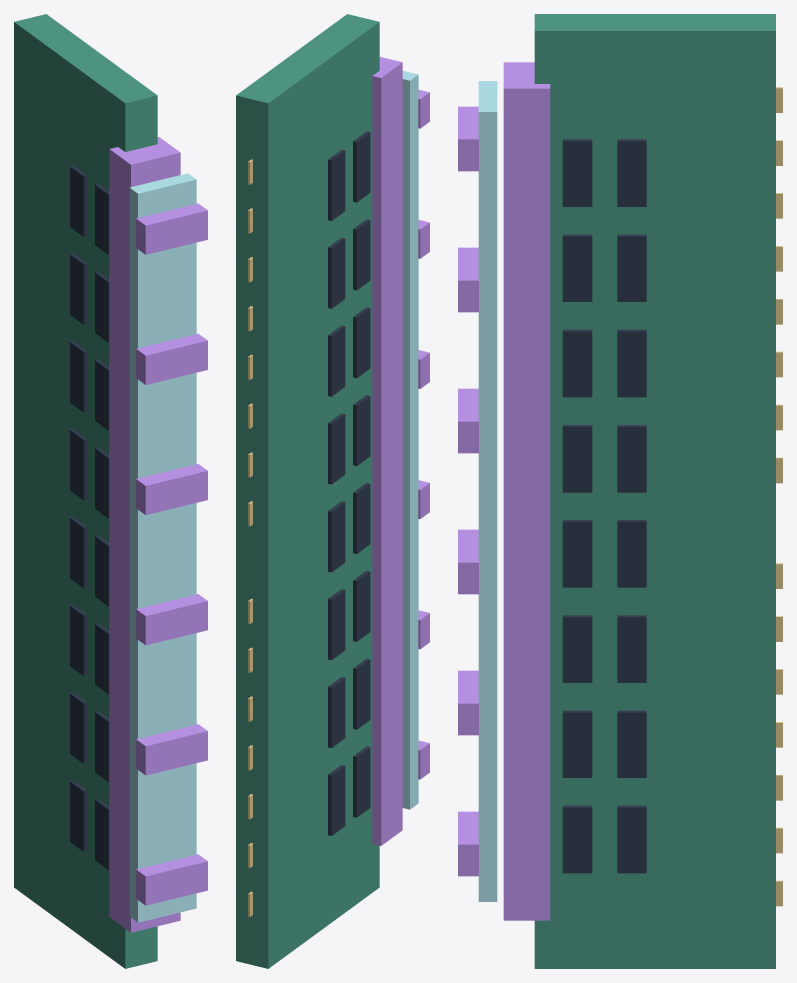
The model's file is ram-purple.glb.
3 renders of one model, left to right at view 1: azimuth 30°, elevation 25°; view 2: azimuth 150°, elevation 25°; view 3: azimuth 270°, elevation 25°, orthographic. The views are drawn at different scales.
Visible parts, largest first — view 1: memory_pcb_1, rgb_diffuser_34, heatspreader_33, rgb_zone_38, rgb_zone_39, rgb_zone_36, rgb_zone_37, rgb_zone_35, rgb_zone_40, dram_ic_21, dram_ic_23, dram_ic_17 (+13 smaller); view 2: memory_pcb_1, heatspreader_33, rgb_diffuser_34, dram_ic_23, dram_ic_20, dram_ic_25, dram_ic_26, dram_ic_27, dram_ic_31, dram_ic_21, dram_ic_22, dram_ic_29 (+7 smaller); view 3: memory_pcb_1, heatspreader_33, rgb_diffuser_34, dram_ic_25, dram_ic_30, dram_ic_27, dram_ic_28, dram_ic_29, dram_ic_32, dram_ic_26, dram_ic_31, dram_ic_17 (+13 smaller).
Part boxes in pixels (x1,y1,x2,y2): memory_pcb_1: (14, 14, 157, 968); rgb_diffuser_34: (129, 173, 196, 922); heatspreader_33: (109, 137, 180, 932); rgb_zone_38: (136, 464, 207, 514); rgb_zone_39: (136, 333, 207, 384); rgb_zone_36: (136, 724, 207, 775); rgb_zone_37: (136, 594, 207, 645); rgb_zone_35: (136, 854, 207, 905); rgb_zone_40: (136, 203, 207, 254); dram_ic_21: (70, 429, 87, 500); dram_ic_23: (70, 253, 87, 324); dram_ic_17: (70, 780, 87, 851); memory_pcb_1: (236, 14, 379, 968); heatspreader_33: (372, 57, 402, 845); rgb_diffuser_34: (402, 70, 418, 809); dram_ic_23: (328, 237, 345, 308); dram_ic_20: (328, 501, 345, 572); dram_ic_25: (353, 746, 370, 817); dram_ic_26: (353, 658, 370, 729); dram_ic_27: (353, 570, 370, 641); dram_ic_31: (353, 219, 370, 290); dram_ic_21: (328, 413, 345, 484); dram_ic_22: (328, 325, 345, 396); dram_ic_29: (353, 395, 370, 466); memory_pcb_1: (534, 14, 775, 968); heatspreader_33: (503, 62, 550, 920); rgb_diffuser_34: (478, 81, 497, 901); dram_ic_25: (562, 805, 592, 873); dram_ic_30: (562, 329, 592, 397); dram_ic_27: (562, 615, 592, 682); dram_ic_28: (562, 520, 592, 587); dram_ic_29: (562, 425, 592, 492); dram_ic_32: (562, 139, 592, 206); dram_ic_26: (562, 710, 592, 777); dram_ic_31: (562, 234, 592, 301); dram_ic_17: (617, 805, 646, 873).
Bounding box in the file's own units: 0.1 × 1.33 × 0.4175.
